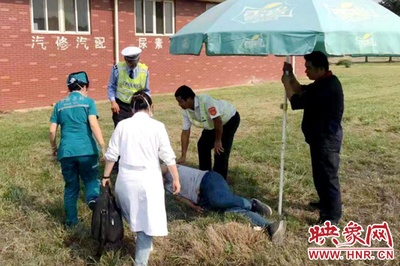falling: (153, 155, 289, 239)
